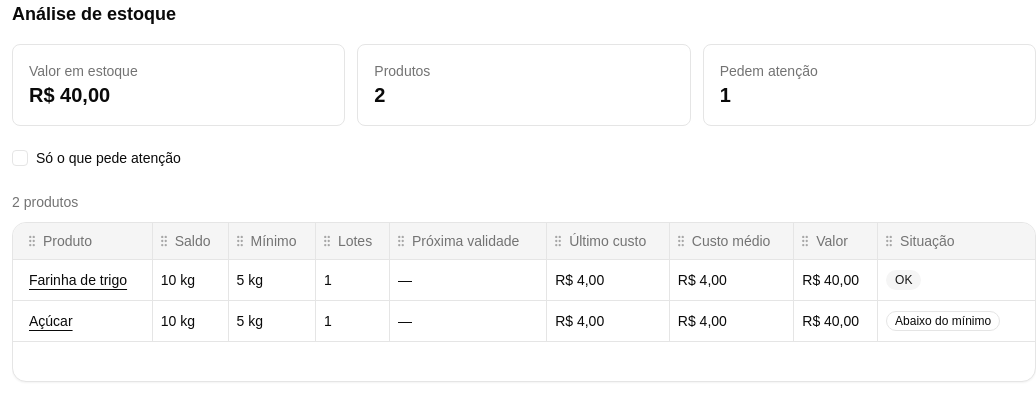
Test case: StockPositionPage › shows only what needs attention when asked, and everything again when asked back
The image size is (1036, 399).
Click the checkbox named "Só o que pede atenção" at point(20, 158), box [12,150,28,166]
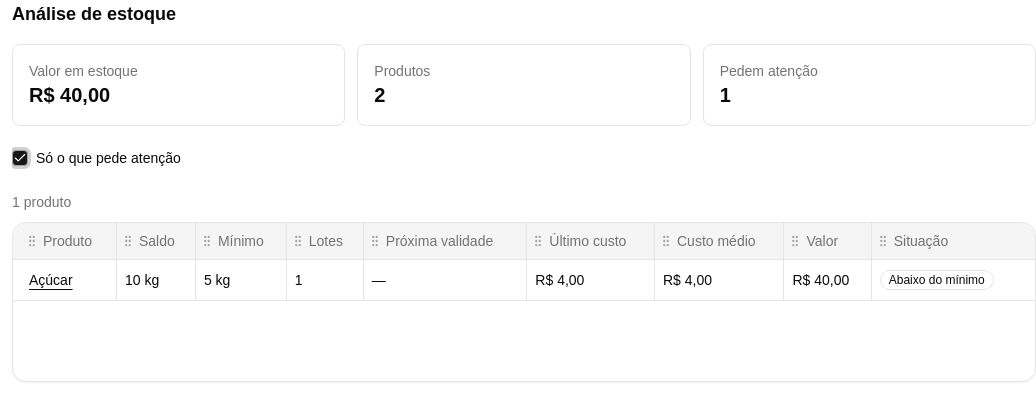
Expected: the link "Açúcar" is shown, [29,272,73,288]
Result: the link "Farinha de trigo" is gone
Click the checkbox named "Só o que pede atenção" at point(20, 158), box [12,150,28,166]
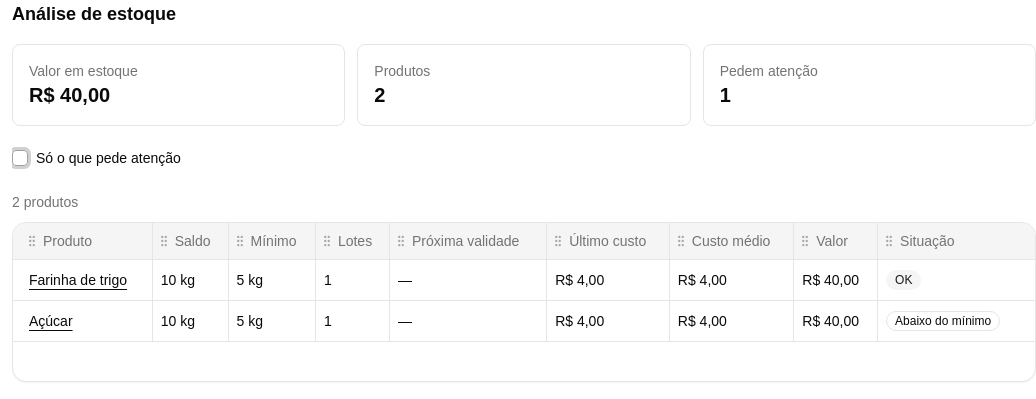
Result: the link "Farinha de trigo" is shown at [29,272,127,288]
